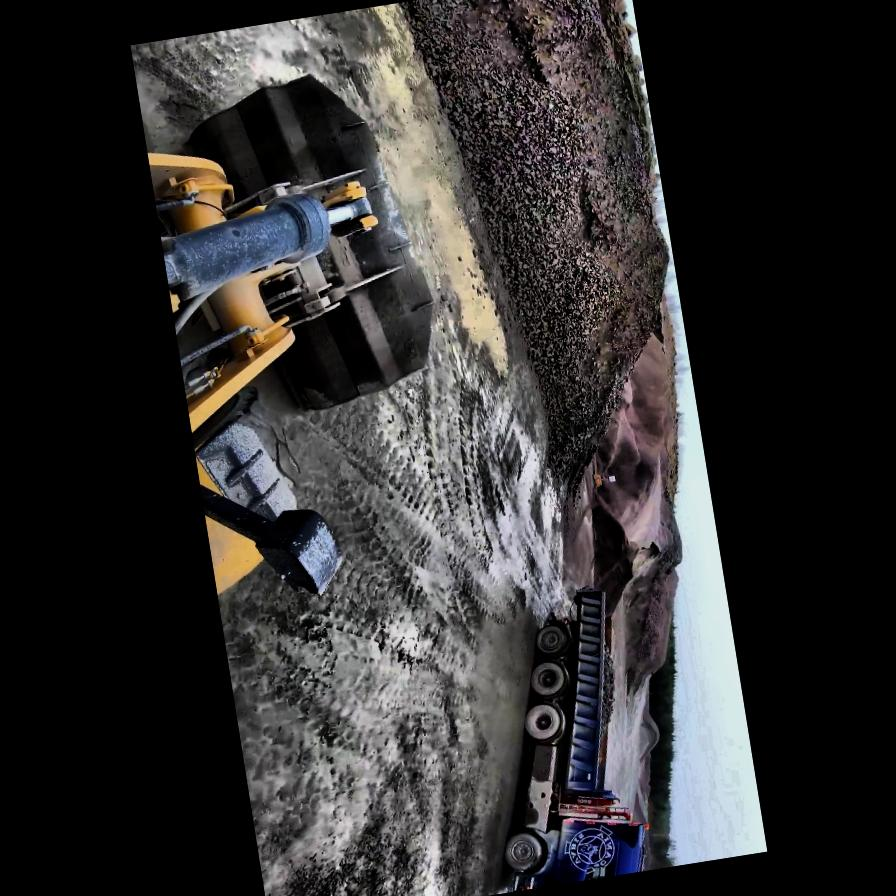anchor: (315, 176, 379, 240)
pile of gravel: (372, 0, 695, 447), (540, 379, 723, 700), (630, 708, 664, 762)
